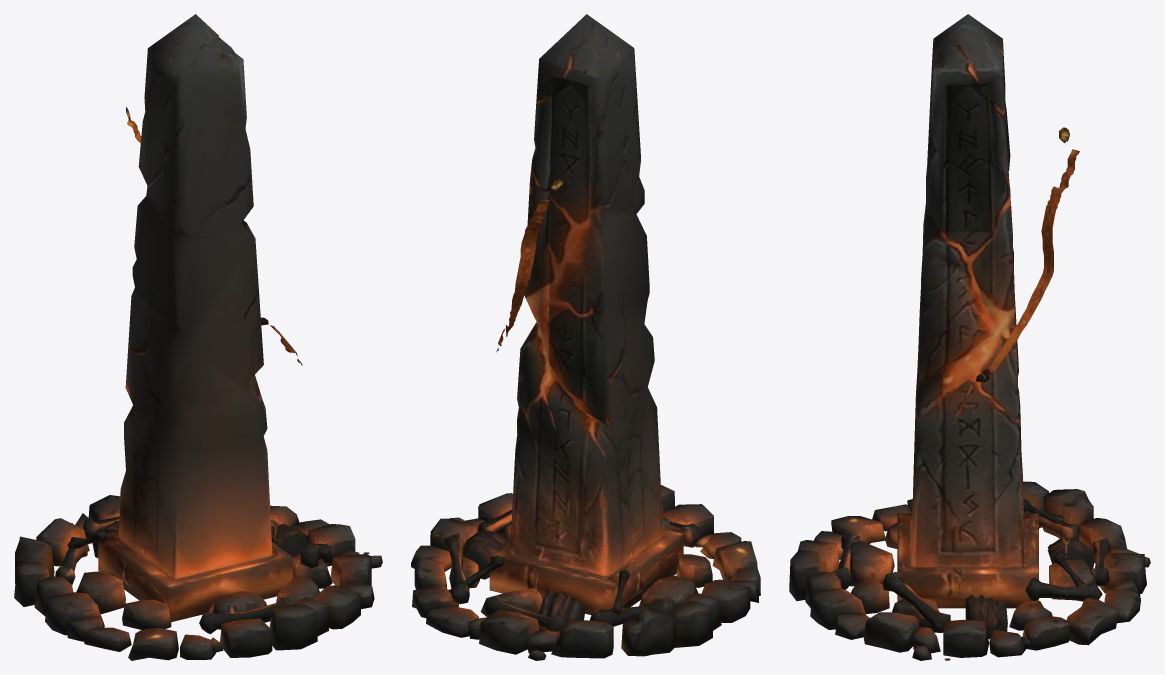
The model's file is cinder_obelisk.glb.
The picture shows the model from 3 angles, left to right: view 1: azimuth 30°, elevation 25°; view 2: azimuth 150°, elevation 25°; view 3: azimuth 270°, elevation 25°; orthographic projection.
Visible parts, largest first — view 1: tripo_node_467f9bdc-131e-45ff-bc5b-18c2c7fc5c32; view 2: tripo_node_467f9bdc-131e-45ff-bc5b-18c2c7fc5c32; view 3: tripo_node_467f9bdc-131e-45ff-bc5b-18c2c7fc5c32.
Boxes of the visible parts, x1,y1,x2,y2 form: tripo_node_467f9bdc-131e-45ff-bc5b-18c2c7fc5c32: (14,14,382,660); tripo_node_467f9bdc-131e-45ff-bc5b-18c2c7fc5c32: (411,14,760,660); tripo_node_467f9bdc-131e-45ff-bc5b-18c2c7fc5c32: (789,14,1150,660).
Bounding box in the file's own units: 0.5684 × 0.998 × 0.5684.
1 material, 1 textured.
